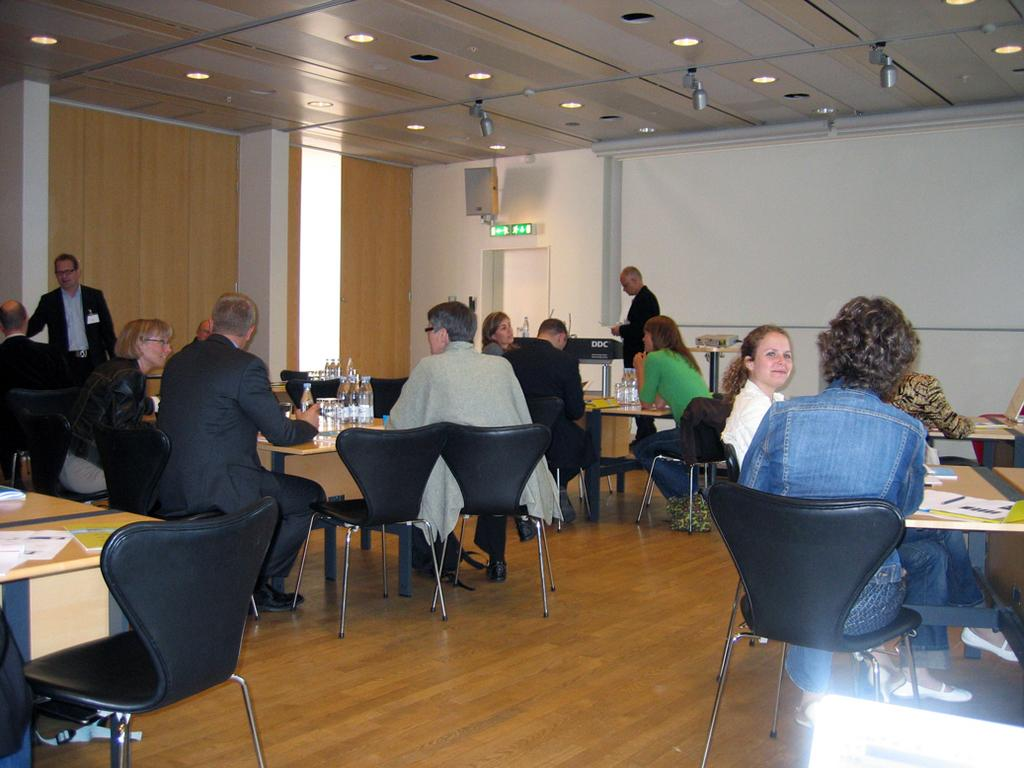Chair: (9, 488, 286, 768), (693, 485, 930, 760), (293, 423, 445, 638), (448, 418, 557, 620), (641, 445, 724, 536), (0, 383, 77, 479)
